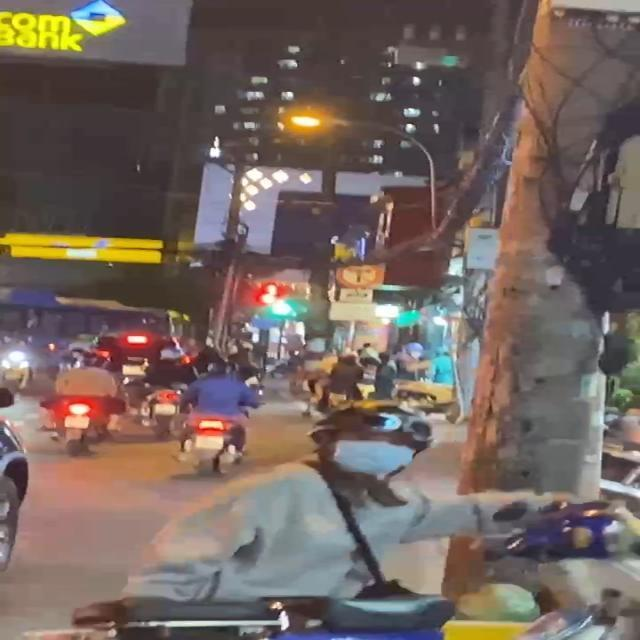137-cam-re-trai-va-re-phai: (334, 257, 382, 289)
